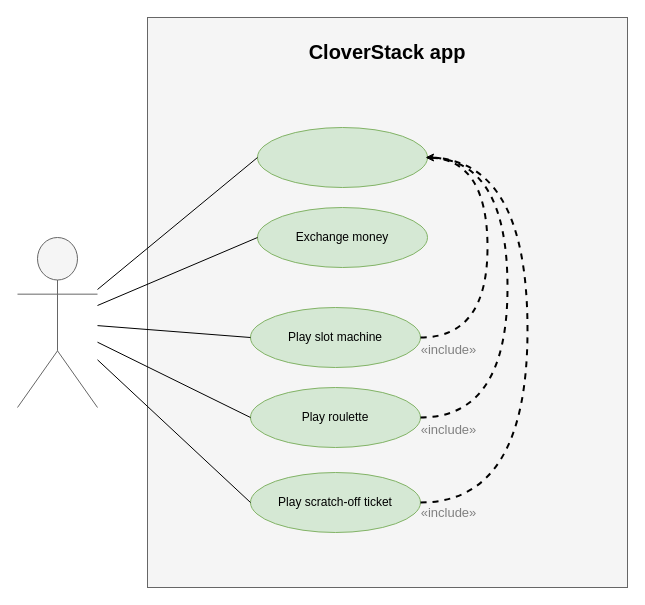
The diagram is 645 pixels wide and 605 high, and some of its shapes have lost their labels. The centre of each missing label's shape, as x and y in pixels:
Player: the point at 57,322
View account balance: the point at 342,157
